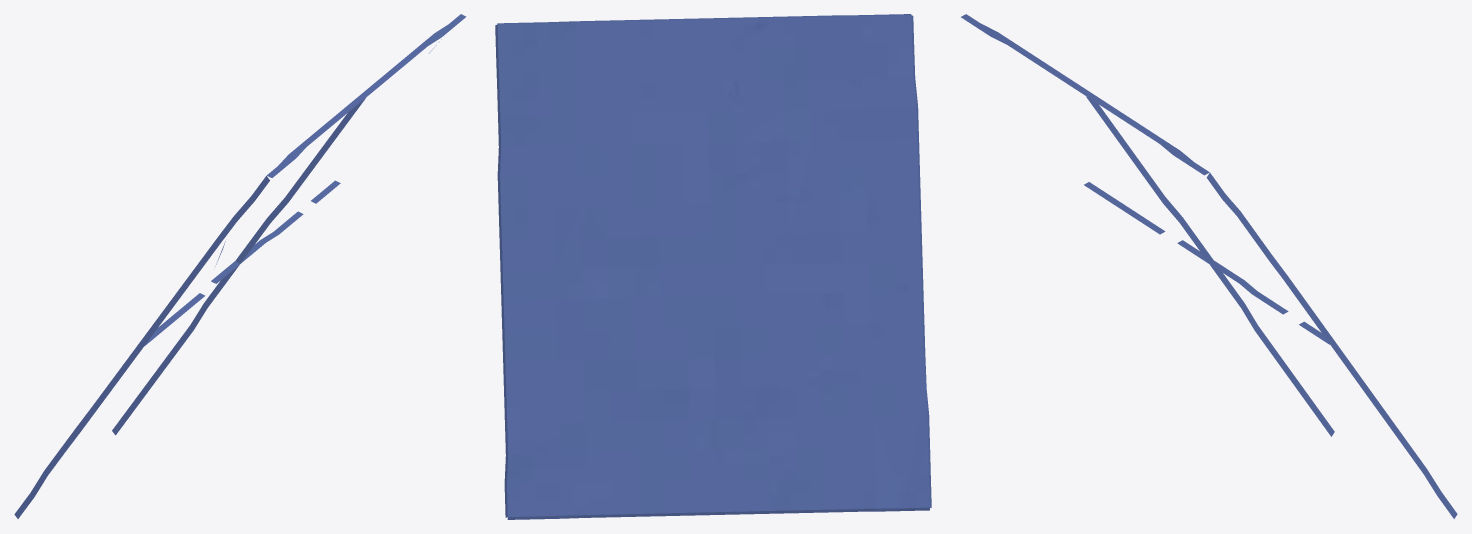
3 views of the same model, side by side, from view 1: azimuth 30°, elevation 25°; view 2: azimuth 150°, elevation 25°; view 3: azimuth 270°, elevation 25° (orthographic). The views are drawn at different scales.
Size of the model in its own units: 158582 by 133325 by 145267.
Materials: 1 (1 with a texture image).
